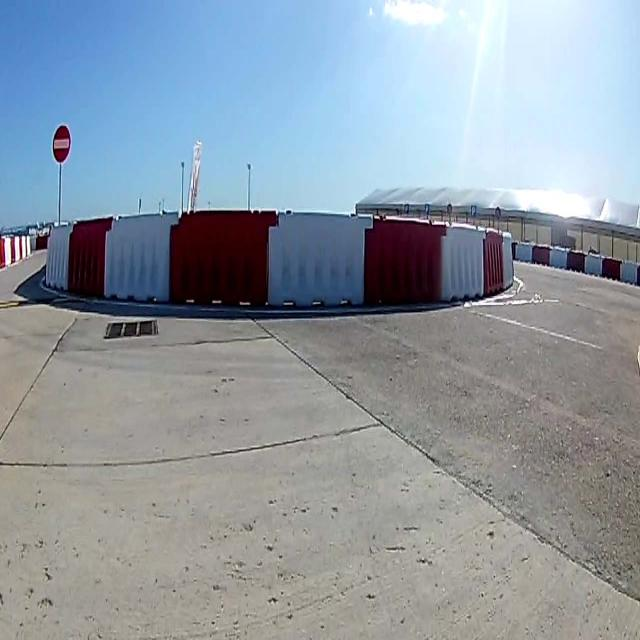girisyok: (51, 125, 71, 164)
